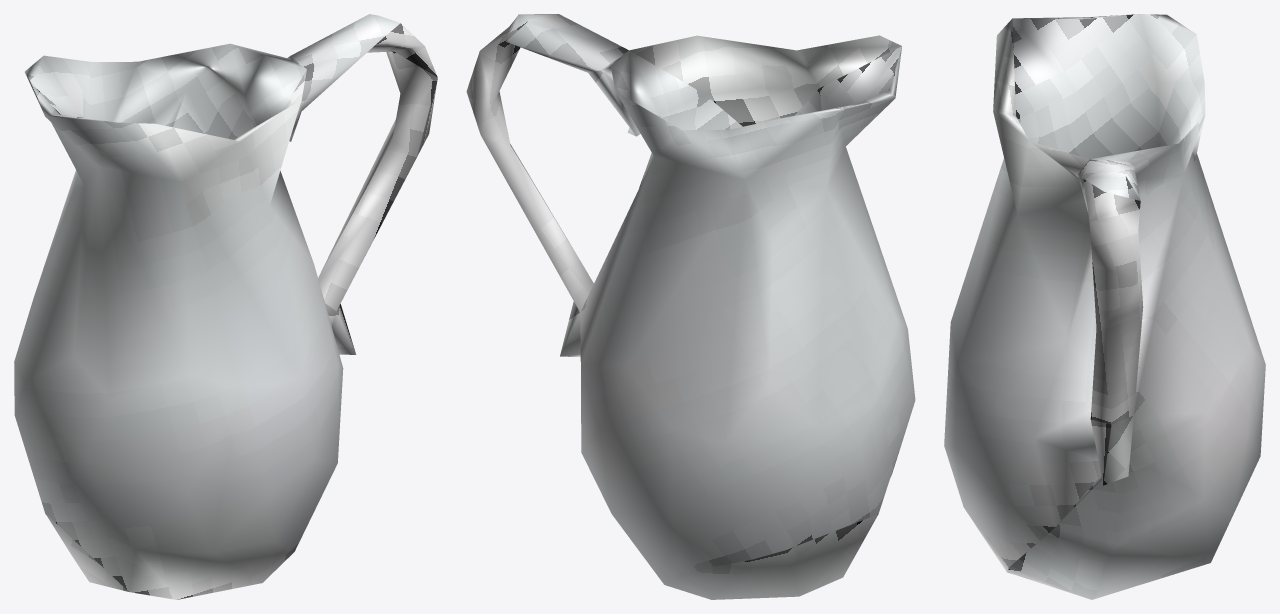
Rendered from Threshold_Porcelain_Pitcher_White-low.glb.
The picture shows the model from 3 angles, left to right: view 1: azimuth 30°, elevation 25°; view 2: azimuth 150°, elevation 25°; view 3: azimuth 270°, elevation 25°; orthographic projection. The views are drawn at different scales.
Parts seen in each view (by area): view 1: Threshold_Porcelain_Pitcher_White; view 2: Threshold_Porcelain_Pitcher_White; view 3: Threshold_Porcelain_Pitcher_White.
Boxes of the visible parts, box(x1,y1,x2,y2) form: Threshold_Porcelain_Pitcher_White: box(14, 14, 437, 599); Threshold_Porcelain_Pitcher_White: box(466, 14, 915, 599); Threshold_Porcelain_Pitcher_White: box(944, 14, 1265, 599).
Bounding box in the file's own units: 0.2336 × 0.2775 × 0.1659.
Materials: 1 (1 with a texture image).
